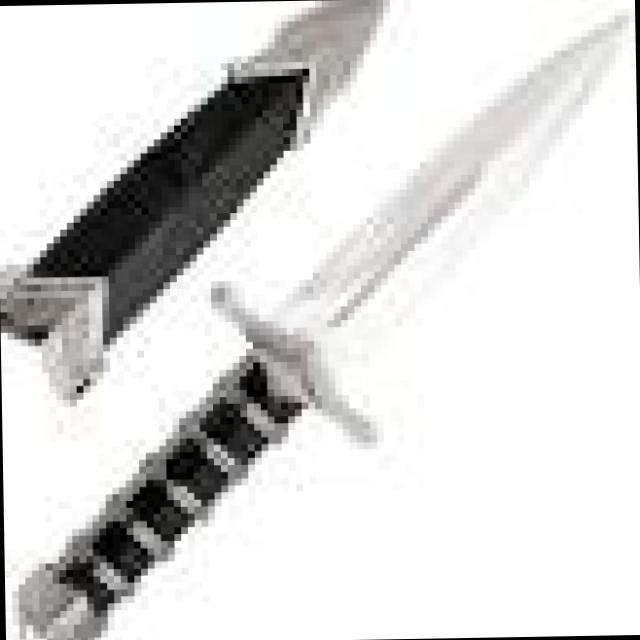Gun: (1, 9, 618, 640)
